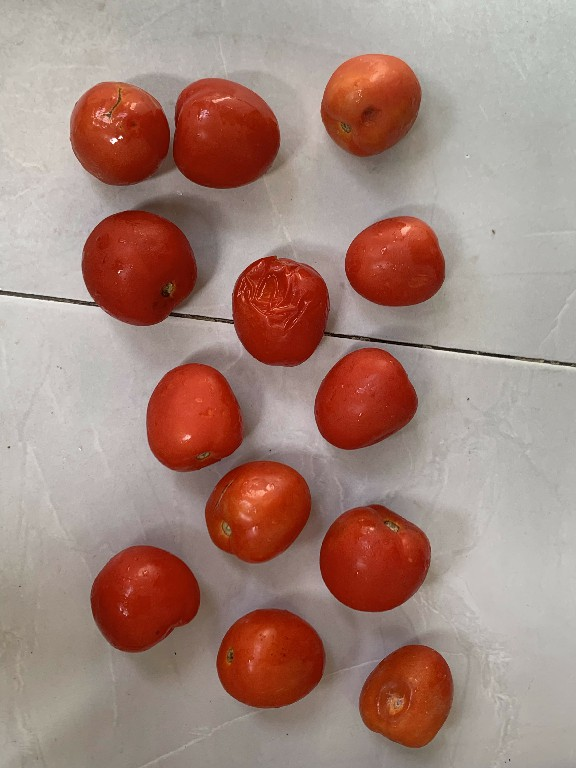NG: (225, 246, 328, 369), (202, 456, 310, 571), (317, 48, 425, 162), (63, 73, 170, 186), (355, 642, 462, 751)
OK: (72, 205, 196, 330), (212, 604, 333, 715), (83, 543, 204, 652), (319, 502, 434, 614), (176, 76, 285, 188), (308, 348, 419, 451), (140, 359, 244, 468), (336, 211, 447, 311)
